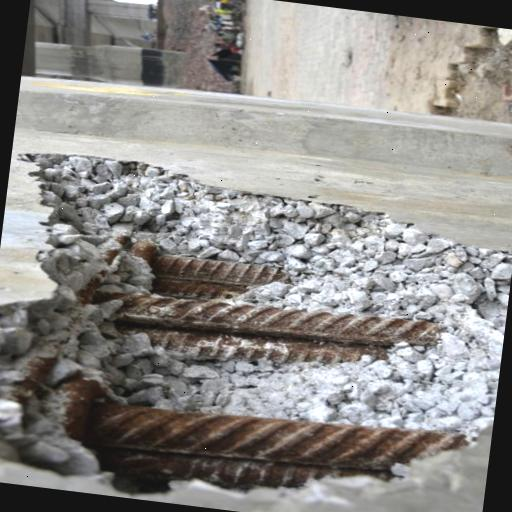spalling: (0, 156, 502, 491)
